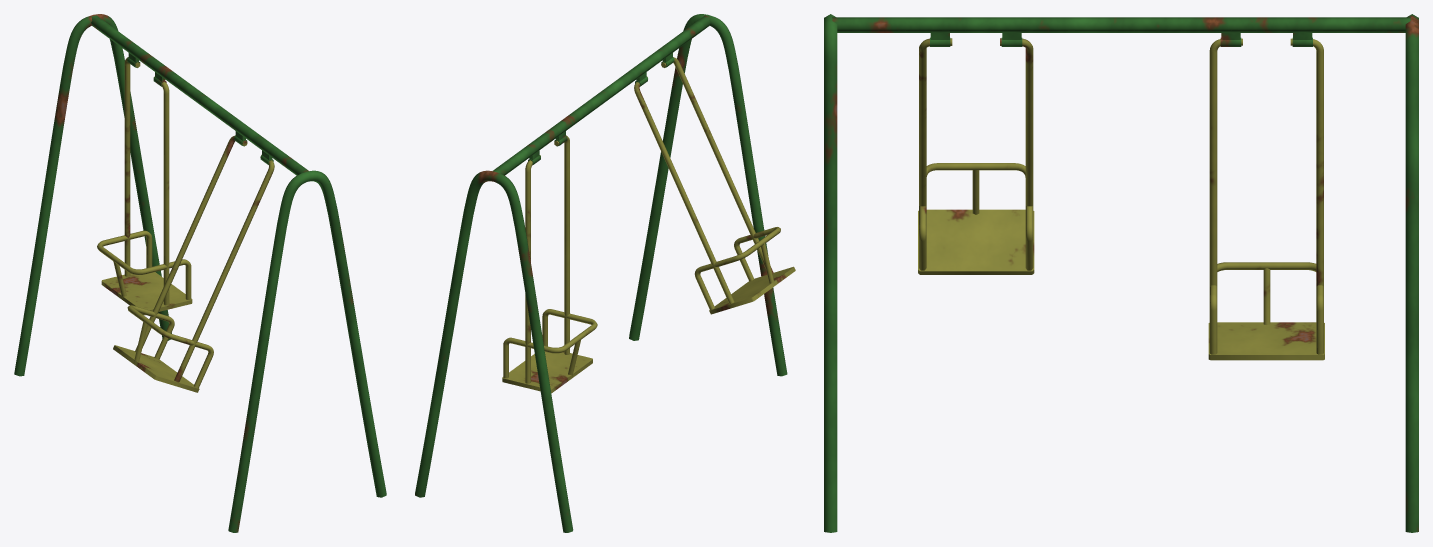
The model's file is Swings.fbx.
3 views of the same model, side by side, from view 1: azimuth 30°, elevation 25°; view 2: azimuth 150°, elevation 25°; view 3: azimuth 270°, elevation 25° (orthographic). The views are drawn at different scales.
Parts seen in each view (by area): view 1: SidePipes_Baked, TopPipe_Baked, Shoulders.001_Baked, Shoulders_Baked, Seat.001_Baked, Protector.002_Baked, Protector_Baked, Seat_Baked; view 2: SidePipes_Baked, TopPipe_Baked, Shoulders_Baked, Shoulders.001_Baked, Seat.001_Baked, Protector.002_Baked, Protector_Baked, Seat_Baked; view 3: SidePipes_Baked, TopPipe_Baked, Seat_Baked, Shoulders.001_Baked, Seat.001_Baked, Shoulders_Baked, Protector.002_Baked, Protector_Baked.
Part boxes in pixels (<box>): SidePipes_Baked: <box>14,14,386,532</box>; TopPipe_Baked: <box>91,15,308,175</box>; Shoulders.001_Baked: <box>124,57,169,305</box>; Shoulders_Baked: <box>135,135,274,382</box>; Seat.001_Baked: <box>101,272,192,315</box>; Protector.002_Baked: <box>97,230,191,299</box>; Protector_Baked: <box>127,305,213,388</box>; Seat_Baked: <box>113,345,199,392</box>; SidePipes_Baked: <box>415,14,787,532</box>; TopPipe_Baked: <box>492,15,710,175</box>; Shoulders_Baked: <box>634,57,773,303</box>; Shoulders.001_Baked: <box>525,135,569,383</box>; Seat.001_Baked: <box>502,351,592,393</box>; Protector.002_Baked: <box>503,309,597,378</box>; Protector_Baked: <box>694,227,780,309</box>; Seat_Baked: <box>709,266,795,314</box>; SidePipes_Baked: <box>824,14,1418,532</box>; TopPipe_Baked: <box>832,17,1410,32</box>; Seat_Baked: <box>918,209,1034,274</box>; Shoulders.001_Baked: <box>1209,38,1323,286</box>; Seat.001_Baked: <box>1208,322,1324,360</box>; Shoulders_Baked: <box>919,38,1033,206</box>; Protector.002_Baked: <box>1209,262,1323,354</box>; Protector_Baked: <box>919,163,1033,270</box>.
Size of the model in its own units: 161 by 265 by 307.
